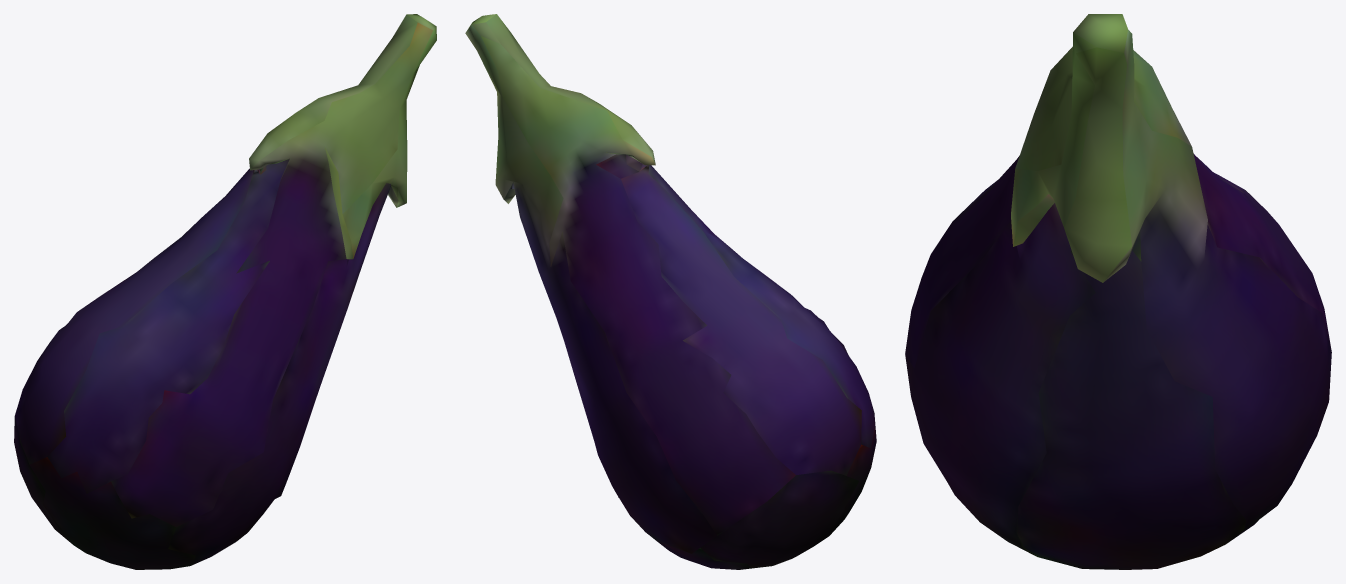
Rendered from berinjela.glb.
3 renders of one model, left to right at view 1: azimuth 30°, elevation 25°; view 2: azimuth 150°, elevation 25°; view 3: azimuth 270°, elevation 25°, orthographic. The views are drawn at different scales.
Visible parts, largest first — view 1: berinjela; view 2: berinjela; view 3: berinjela.
Boxes of the visible parts, x1,y1,x2,y2 form: berinjela: (14, 14, 436, 569); berinjela: (465, 14, 876, 569); berinjela: (905, 14, 1331, 569).
Bounding box in the file's own units: 0.1349 × 0.1569 × 0.0835.
Materials: 1 (1 with a texture image).
